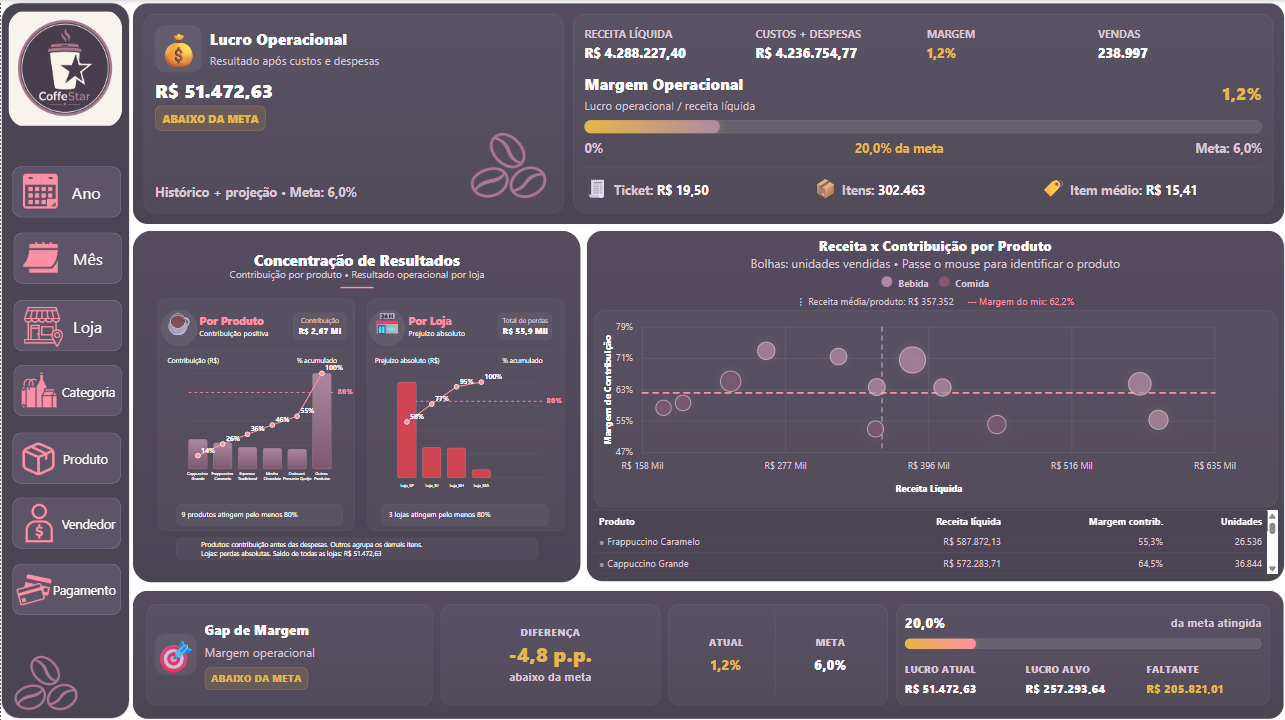

What the dashboard file says about the page in this screenshot:
{"tool":"powerbi","page":{"name":"Visão Geral","canvas":[1920,1080],"ordinal":0},"visuals":[{"type":"shape","title":"Barra de filtros","box":[0,0,192.2,1074.8],"z":0},{"type":"shape","box":[16.8,248.1,162.3,76.5],"z":0,"group":"g1"},{"type":"shape","box":[18,347.1,162.3,76.5],"z":0,"group":"g2"},{"type":"shape","box":[18.7,447.8,162.3,76.5],"z":0,"group":"g3"},{"type":"shape","box":[18.6,544.9,162.3,76],"z":0,"group":"g4"},{"type":"shape","box":[16.8,645.6,162.3,76.5],"z":0,"group":"g5"},{"type":"shape","box":[16.8,742.6,162.3,76.5],"z":0,"group":"g6"},{"type":"shape","box":[16.8,841.3,162.3,76.5],"z":0,"group":"g7"},{"type":"image","box":[16.8,258.6,84,52.2],"z":1000,"group":"g1"},{"type":"image","box":[16.8,358.2,84,52.2],"z":1000,"group":"g2"},{"type":"image","box":[13.1,455.3,100.8,65.3],"z":1000,"group":"g3"},{"type":"image","box":[14.9,556,84,51.9],"z":1000,"group":"g4"},{"type":"image","box":[11.1,654.9,89.6,59.7],"z":1000,"group":"g5"},{"type":"image","box":[7.5,751.5,98.9,57.8],"z":1000,"group":"g6"},{"type":"image","box":[16.8,854.4,65.3,52.2],"z":1000,"group":"g7"},{"type":"htmlContent443BE3AD55E043BF878BED274D3A6855","fields":{"content":["Medidas.Card Gap de Margem HTML"]},"box":[192.5,877.5,1727.5,202.5],"z":1000},{"type":"textbox","box":[100.8,266.8,65.3,44.8],"z":2000,"group":"g1"},{"type":"htmlContent443BE3AD55E043BF878BED274D3A6855","fields":{"content":["Medidas.Card Scatter Receita Margem Produto HTML"]},"box":[869.5,339.6,1050.5,539.3],"z":2000},{"type":"textbox","box":[102,365.8,65.3,44.8],"z":2000,"group":"g2"},{"type":"textbox","box":[102.7,466.5,65.3,44.8],"z":2000,"group":"g3"},{"type":"textbox","box":[85.8,567.1,89.6,48.2],"z":2000,"group":"g4"},{"type":"textbox","box":[87.7,668,89.6,48.5],"z":2000,"group":"g5"},{"type":"textbox","box":[86,765,98.9,48.5],"z":2000,"group":"g6"},{"type":"textbox","box":[72.7,863.7,108.2,48.5],"z":2000,"group":"g7"},{"type":"actionButton","box":[15.5,242.6,164.9,91.8],"z":3000,"group":"g1"},{"type":"htmlContent443BE3AD55E043BF878BED274D3A6855","fields":{"content":["Medidas.Card Pareto Lucro Produto Loja HTML"]},"box":[192,340,678,538],"z":3000},{"type":"htmlContent443BE3AD55E043BF878BED274D3A6855","fields":{"content":["Medidas.Card Executivo Rentabilidade HTML"]},"box":[192,0,1728,340],"z":4000},{"type":"image","title":"Logo","box":[11.2,14.9,169.8,175.4],"z":5000},{"type":"group","id":"g1","title":"BTN_Ano","box":[15.5,242.6,164.9,91.8],"z":7000},{"type":"group","id":"g2","title":"BTN_Mes","box":[16.8,347.1,164.2,76.5],"z":9000},{"type":"group","id":"g3","title":"BTN_Loja","box":[13.1,447.8,167.9,76.5],"z":11000},{"type":"group","id":"g4","title":"BTN_Categoria","box":[14.9,544.9,166.1,76],"z":13000},{"type":"group","id":"g5","title":"BTN_Produto","box":[11.1,645.6,168,76.5],"z":15000},{"type":"group","id":"g6","title":"BTN_Vendedor","box":[7.5,742.6,177.4,76.5],"z":17000},{"type":"group","id":"g7","title":"BTN_Pagamento","box":[16.8,841.3,164.2,76.5],"z":19000},{"type":"actionButton","title":"Clique_Mes_Abrir","box":[16.8,341.5,167.9,91.4],"z":21000},{"type":"actionButton","title":"Clique_Loja_Abrir","box":[11.2,440.4,177.3,91.4],"z":22000},{"type":"actionButton","title":"Clique_Categoria_Abrir","box":[18.8,536.3,164.9,91.8],"z":23000},{"type":"actionButton","title":"Clique_Produto_Abrir","box":[16.7,636.5,164.9,91.8],"z":24000},{"type":"actionButton","title":"Clique_Vendedor_Abrir","box":[13.1,737,171.7,91.4],"z":25000},{"type":"actionButton","title":"Clique_Pagamento_Abrir","box":[11.2,834.1,173.5,91.4],"z":26000},{"type":"image","box":[677.3,169.8,160.5,154.9],"z":34000},{"type":"image","box":[0,959.1,134.3,121.3],"z":34500}]}

Visuals, with their boxes in screenshot pixels (x1, y1, x2, y2):
"Barra de filtros" shape: BBox(3, 0, 130, 706)
shape: BBox(14, 163, 121, 213)
shape: BBox(15, 228, 122, 278)
shape: BBox(16, 294, 122, 344)
shape: BBox(16, 358, 122, 408)
shape: BBox(14, 424, 121, 474)
shape: BBox(14, 488, 121, 538)
shape: BBox(14, 553, 121, 603)
image: BBox(14, 170, 70, 204)
image: BBox(14, 235, 70, 270)
image: BBox(12, 299, 78, 342)
image: BBox(13, 365, 68, 399)
image: BBox(11, 430, 70, 469)
image: BBox(8, 494, 73, 532)
image: BBox(14, 561, 57, 596)
htmlContent443BE3AD55E043BF878BED274D3A6855 - Medidas.Card Gap de Margem HTML: BBox(130, 576, 1265, 710)
textbox: BBox(70, 175, 112, 205)
htmlContent443BE3AD55E043BF878BED274D3A6855 - Medidas.Card Scatter Receita Margem Produto HTML: BBox(575, 223, 1265, 577)
textbox: BBox(70, 240, 113, 270)
textbox: BBox(71, 306, 114, 336)
textbox: BBox(60, 373, 119, 404)
textbox: BBox(61, 439, 120, 471)
textbox: BBox(60, 503, 125, 534)
textbox: BBox(51, 567, 122, 599)
actionButton: BBox(14, 159, 122, 220)
htmlContent443BE3AD55E043BF878BED274D3A6855 - Medidas.Card Pareto Lucro Produto Loja HTML: BBox(129, 223, 575, 577)
htmlContent443BE3AD55E043BF878BED274D3A6855 - Medidas.Card Executivo Rentabilidade HTML: BBox(129, 0, 1265, 223)
"Logo" image: BBox(11, 10, 122, 125)
"BTN_Ano" group: BBox(14, 159, 122, 220)
"BTN_Mes" group: BBox(14, 228, 122, 278)
"BTN_Loja" group: BBox(12, 294, 122, 344)
"BTN_Categoria" group: BBox(13, 358, 122, 408)
"BTN_Produto" group: BBox(11, 424, 121, 474)
"BTN_Vendedor" group: BBox(8, 488, 125, 538)
"BTN_Pagamento" group: BBox(14, 553, 122, 603)
"Clique_Mes_Abrir" actionButton: BBox(14, 224, 125, 284)
"Clique_Loja_Abrir" actionButton: BBox(11, 289, 127, 349)
"Clique_Categoria_Abrir" actionButton: BBox(16, 352, 124, 413)
"Clique_Produto_Abrir" actionButton: BBox(14, 418, 123, 478)
"Clique_Vendedor_Abrir" actionButton: BBox(12, 484, 125, 544)
"Clique_Pagamento_Abrir" actionButton: BBox(11, 548, 125, 608)
image: BBox(448, 112, 554, 213)
image: BBox(3, 630, 92, 710)
